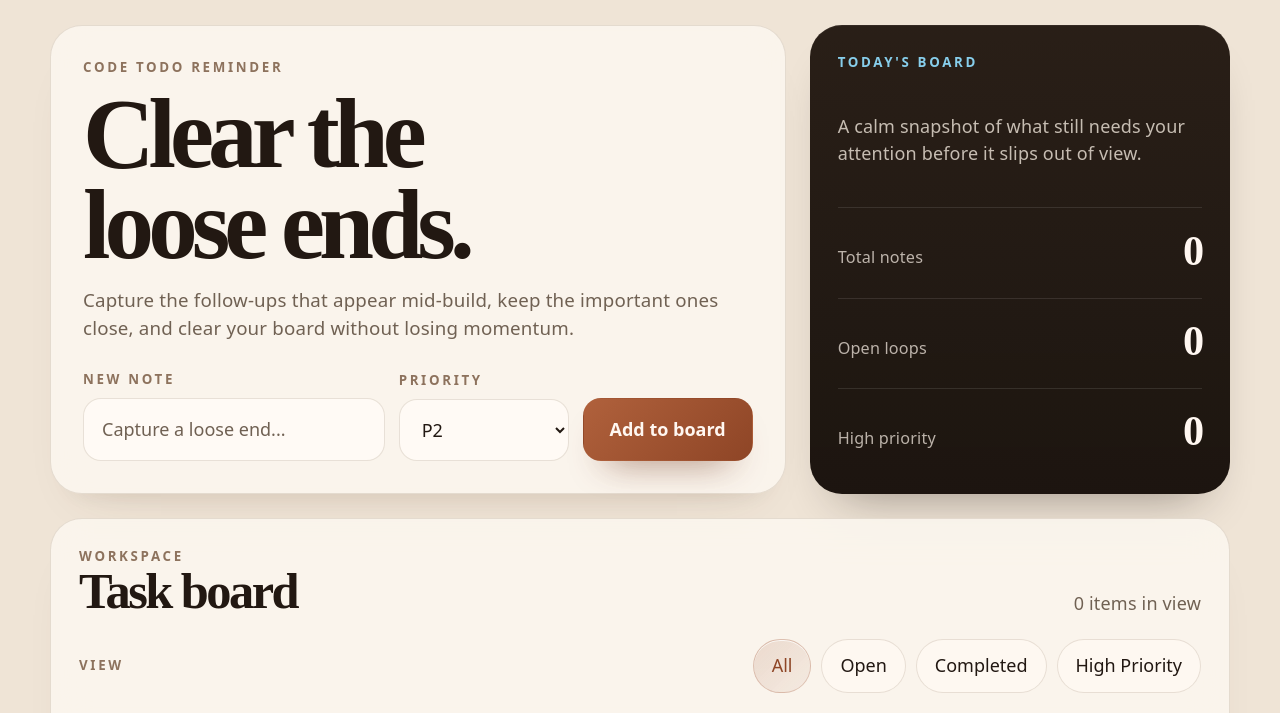
Test: App todo behavior › updates summary metrics after adding and completing todos
The image size is (1280, 713).
In the field with placeholder "Capture a loose end...": (234, 430) [83,398,385,462], type "Ship review polish"
Select "P1" in the dropdown labelled "Priority": (484, 430) [399,399,569,462]
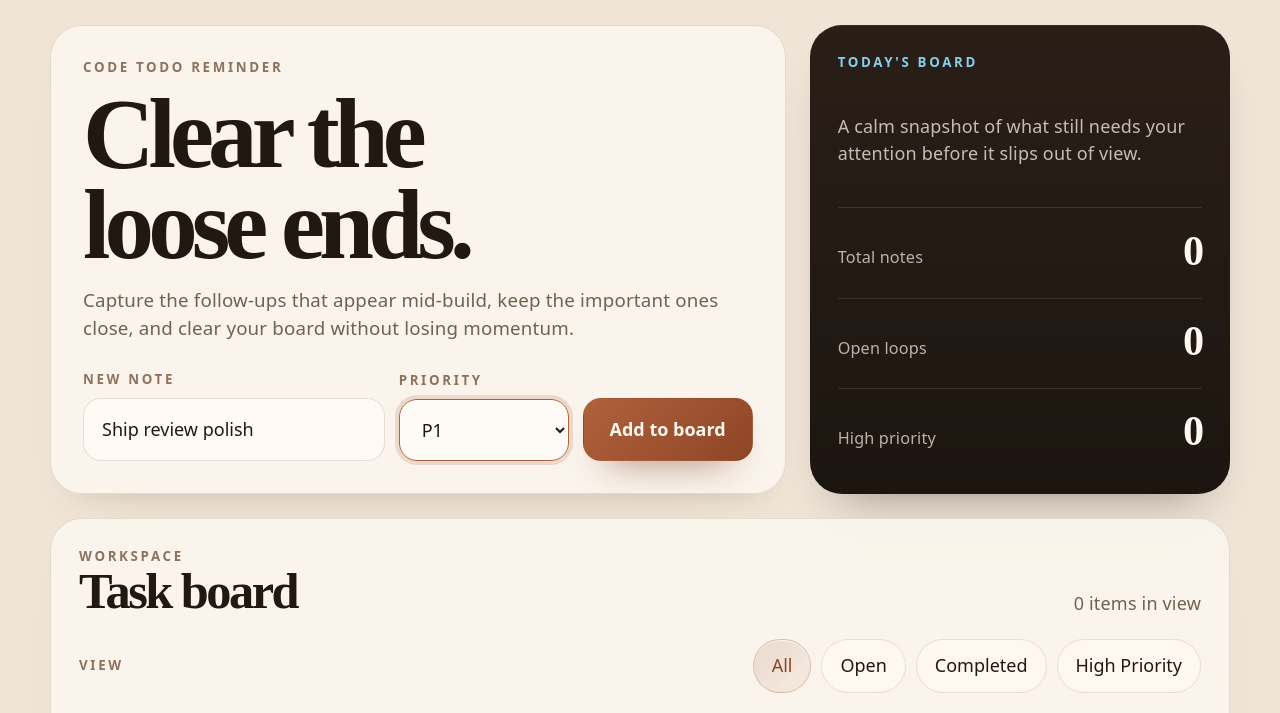
Click the button "Add to board": (668, 430) [583,398,753,462]
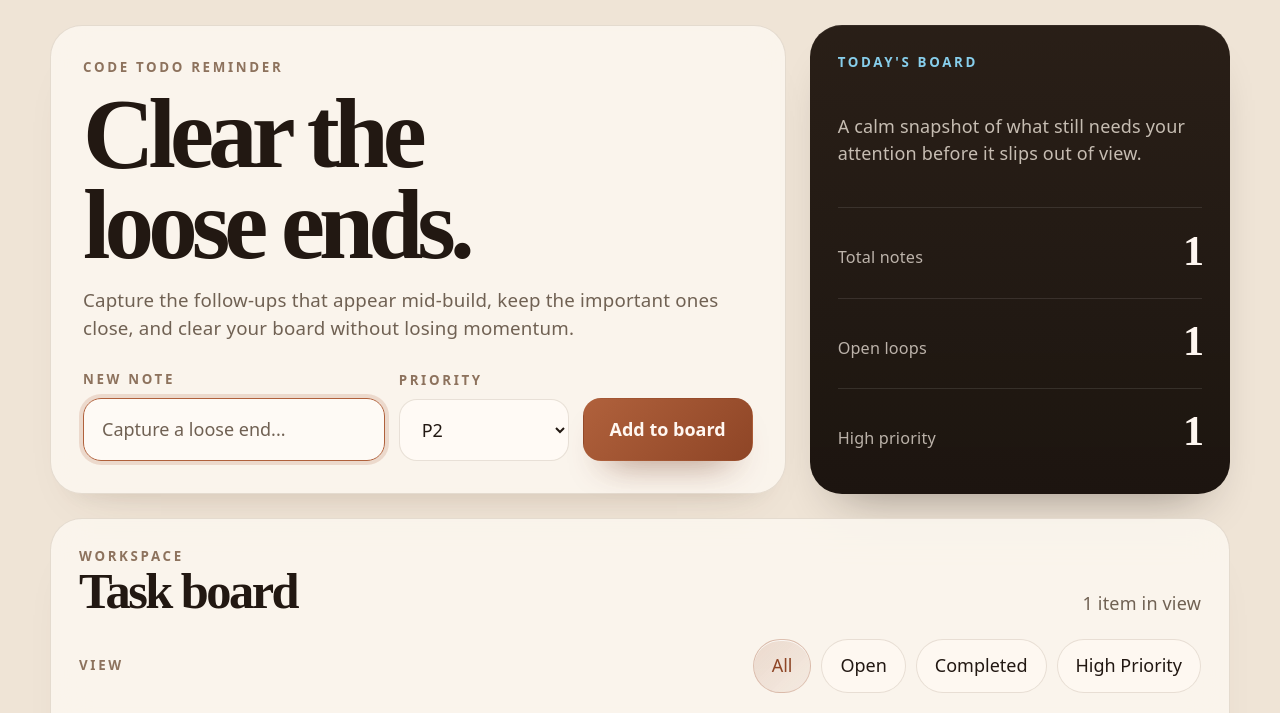
In the field with placeholder "Capture a loose end...": (234, 430) [83,398,385,462], type "Refine empty state"
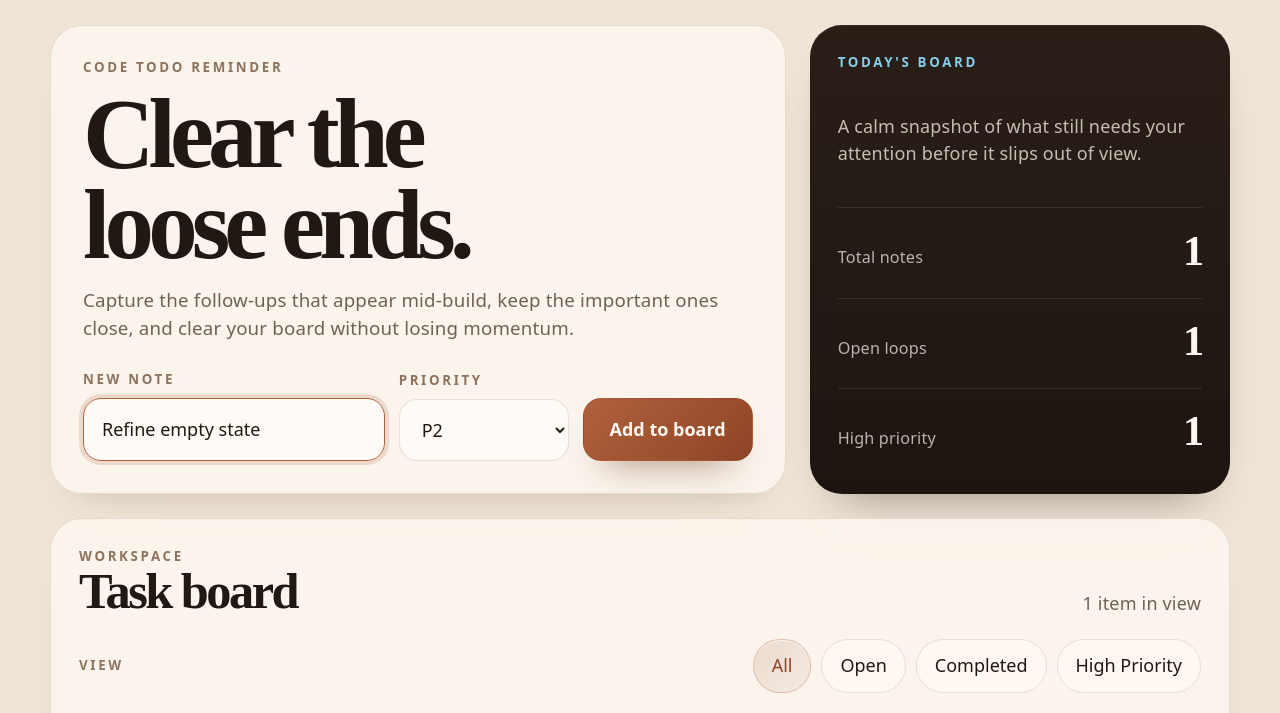
Select "P3" in the dropdown labelled "Priority": (484, 430) [399,399,569,462]
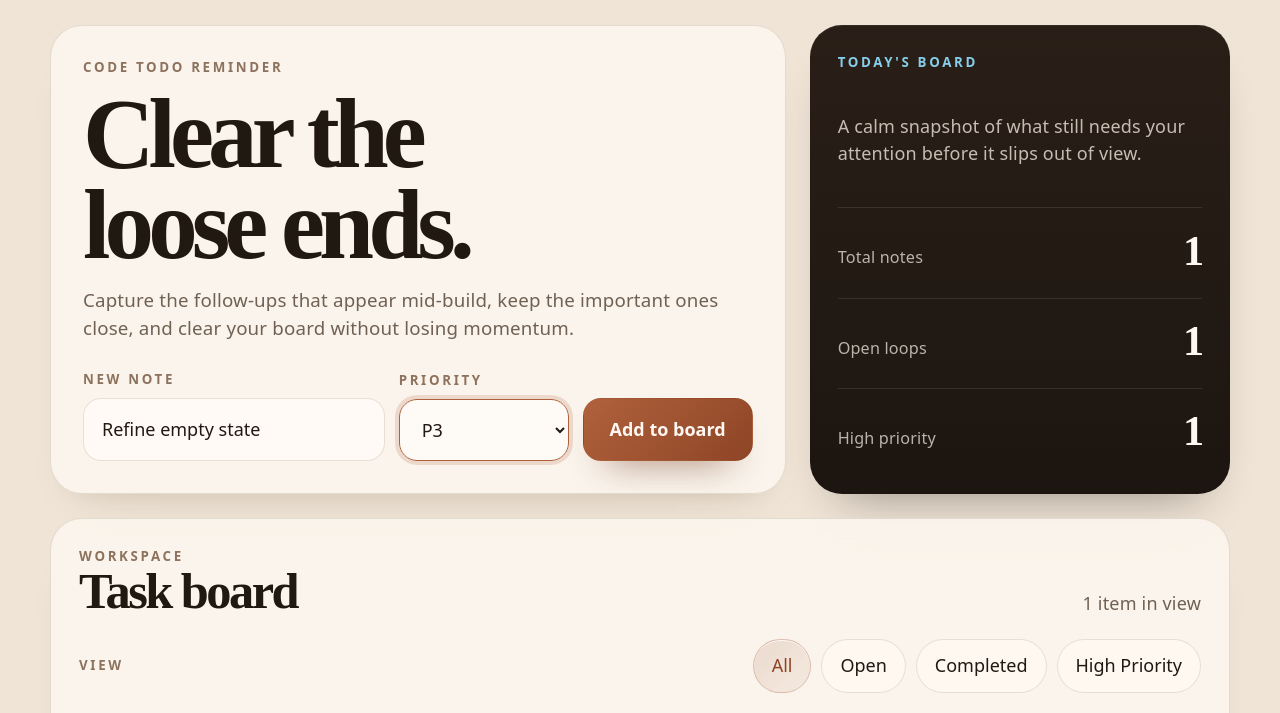
Click the button "Add to board": (668, 430) [583,398,753,462]
(page scrolled)
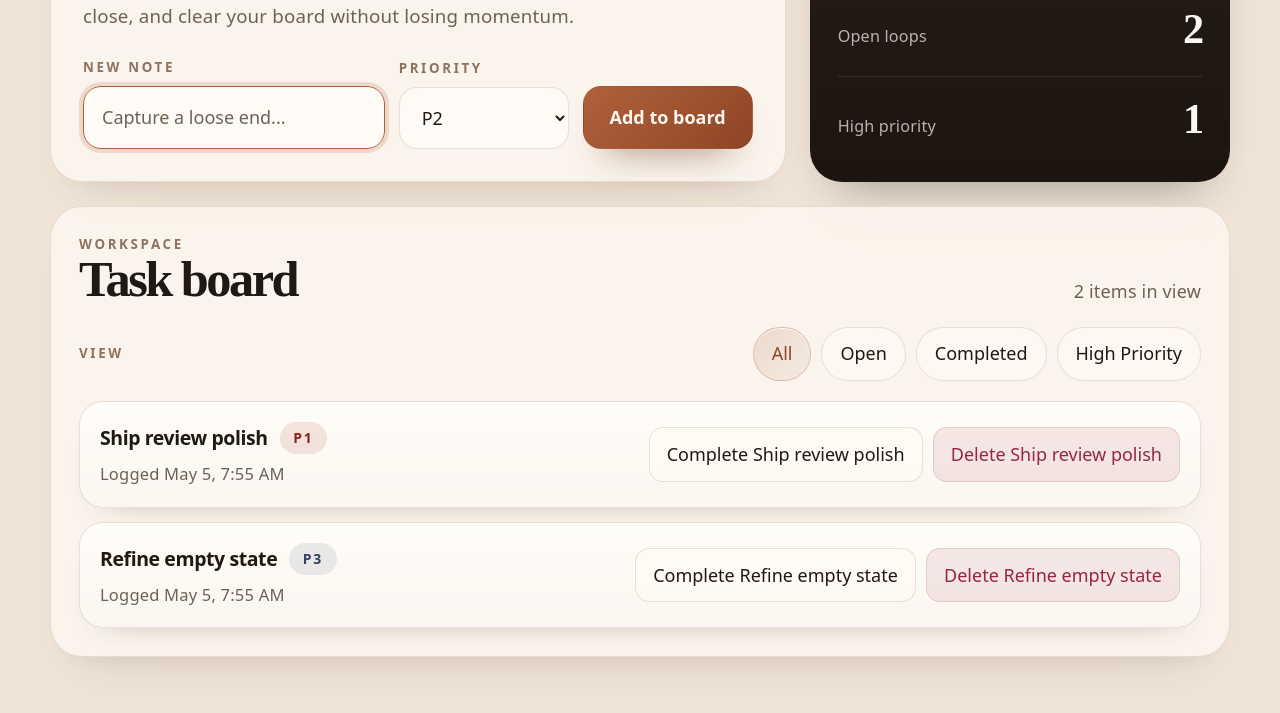
Click the button "Complete Ship review polish": (786, 454) [649,427,923,482]
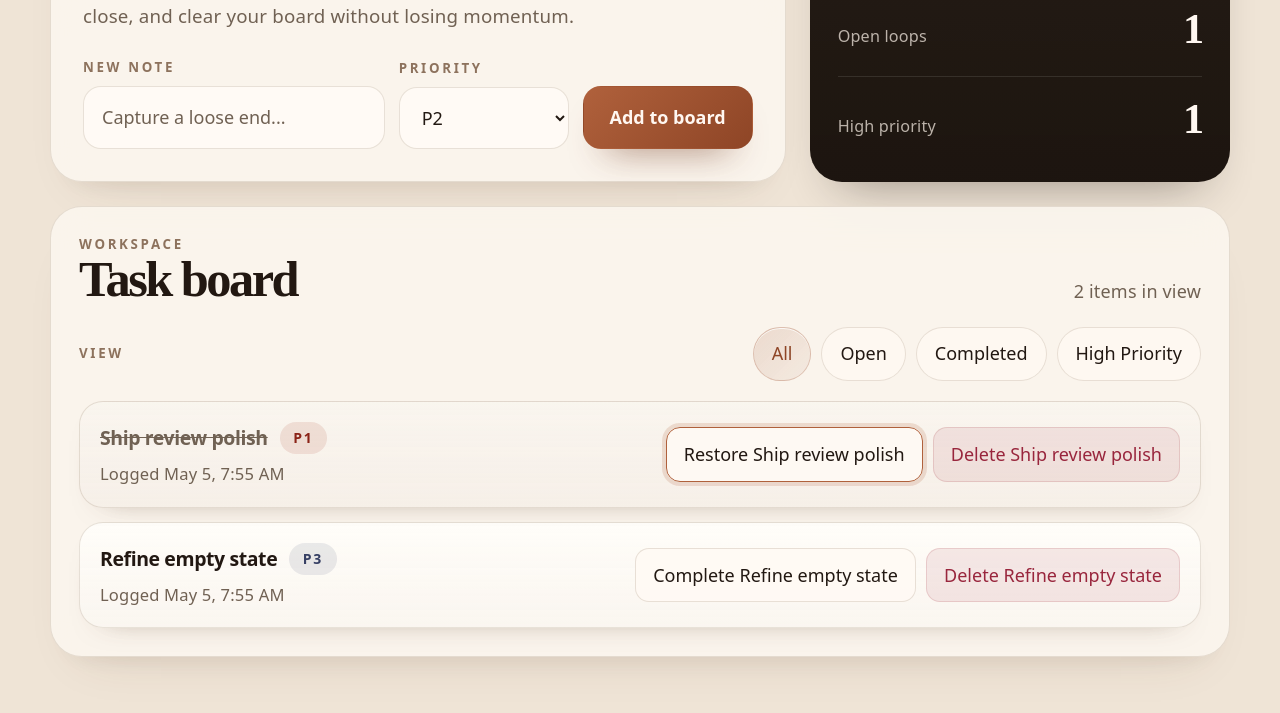
Check: the 2nd text "1" is shown, box [1183,100,1202,138]
Check: the text "1" in the row of "Open loops" is shown, box [1183,5,1202,52]
